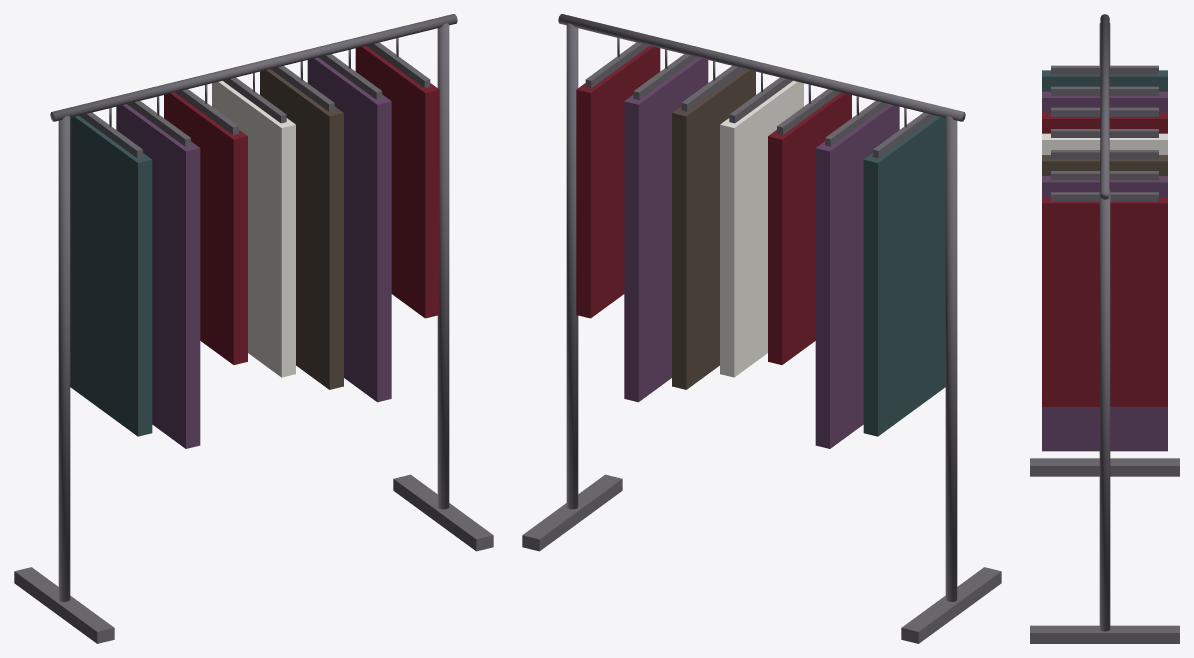
File: SM_PRP_AraraFigurino.fbx
The picture shows the model from 3 angles, left to right: view 1: azimuth 30°, elevation 25°; view 2: azimuth 150°, elevation 25°; view 3: azimuth 270°, elevation 25°; orthographic projection. The views are drawn at different scales.
Parts seen in each view (by area): view 1: SM_PRP_AraraFigurino; view 2: SM_PRP_AraraFigurino; view 3: SM_PRP_AraraFigurino.
Boxes of the visible parts, <box> form: SM_PRP_AraraFigurino: <box>14,14,493,643</box>; SM_PRP_AraraFigurino: <box>522,14,1001,643</box>; SM_PRP_AraraFigurino: <box>1030,14,1179,643</box>.
Bounding box in the file's own units: 1.4 × 1.68 × 0.5.
